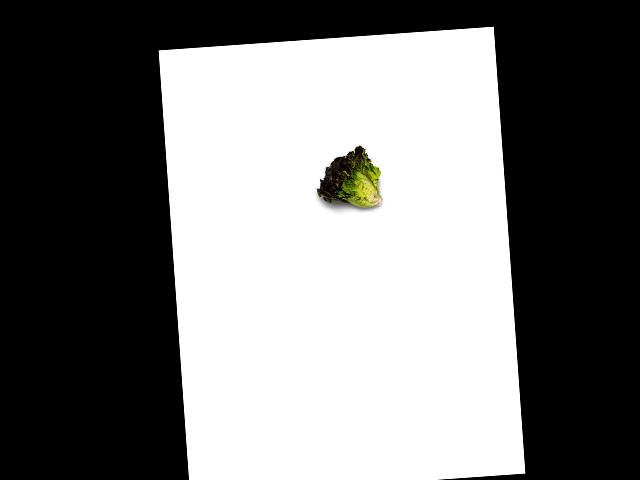lettuce: (310, 145, 385, 211)
